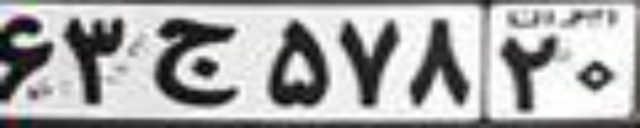0: (571, 59, 619, 92)
2: (496, 35, 559, 111)
3: (64, 17, 122, 105)
5: (264, 20, 332, 105)
6: (1, 13, 57, 104)
7: (338, 19, 400, 106)
8: (404, 19, 470, 108)
jim: (151, 15, 239, 104)
